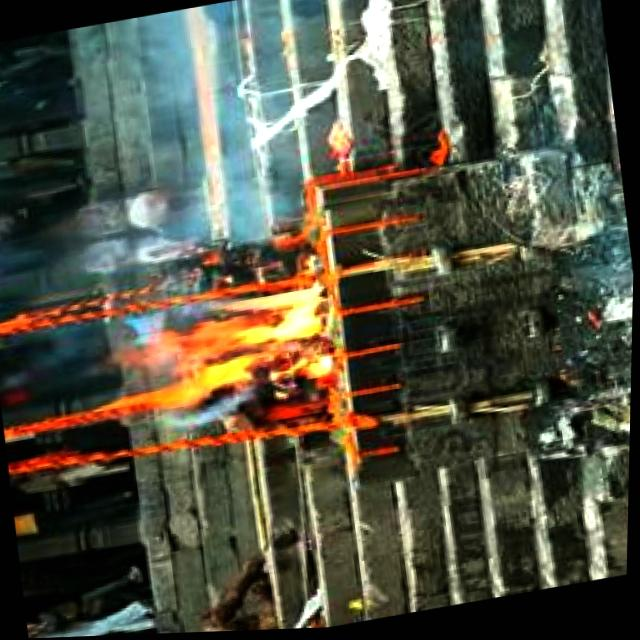helmet: (109, 278, 343, 424)
